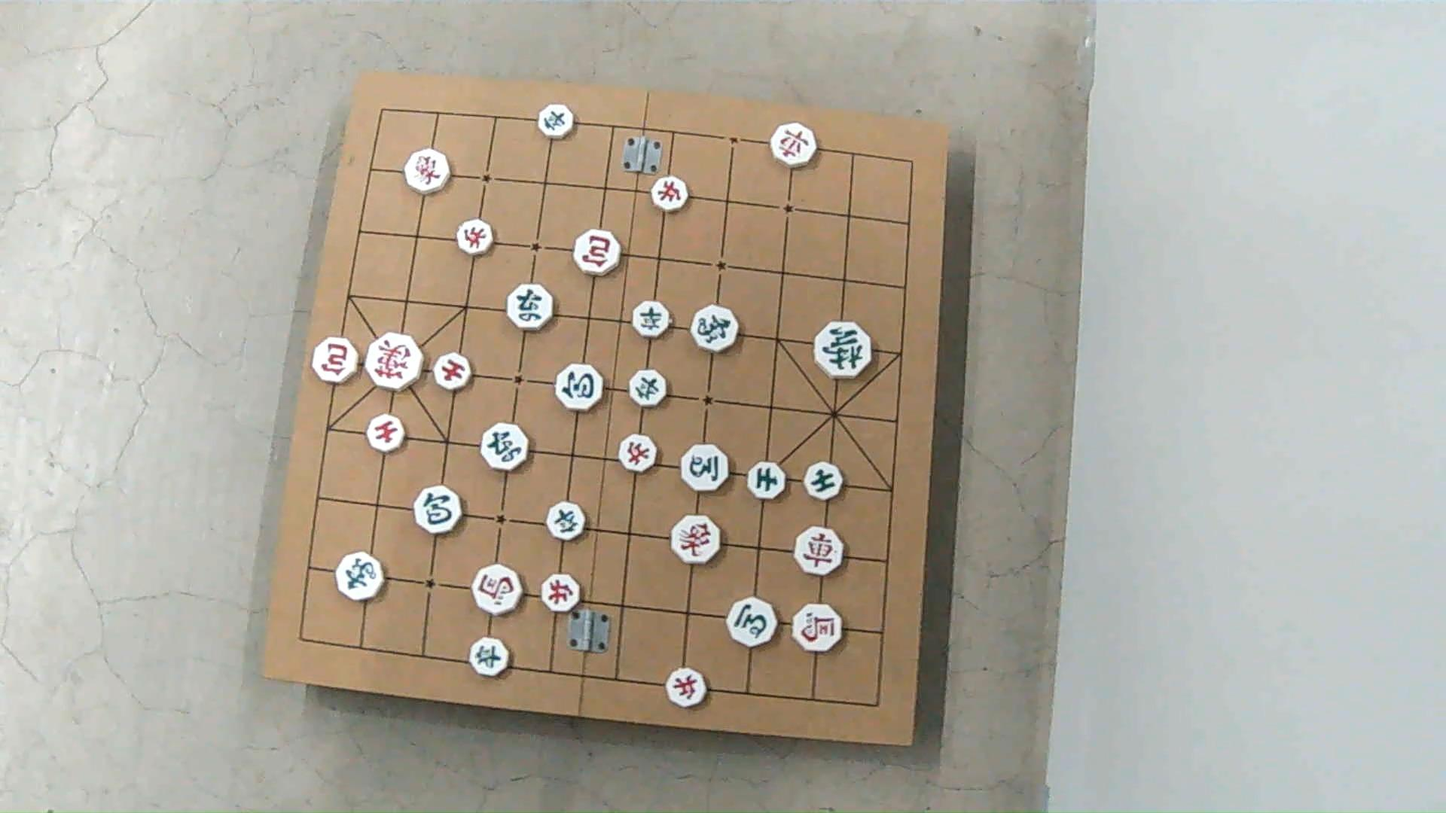cha_green: (508, 285, 555, 332), (480, 424, 527, 471)
cha_red: (795, 529, 843, 577), (770, 122, 816, 167)
jol_green: (470, 638, 511, 677), (548, 501, 587, 540), (629, 368, 666, 406), (631, 302, 669, 337), (538, 105, 575, 139)
jol_red: (541, 574, 581, 613), (666, 668, 705, 707), (621, 435, 659, 472), (458, 223, 494, 259), (651, 177, 688, 212)
ma_green: (730, 599, 779, 647), (682, 444, 731, 492)
ma_red: (790, 605, 840, 653), (473, 566, 521, 616)
po_green: (413, 486, 460, 533), (560, 364, 607, 410)
po_red: (576, 228, 624, 275), (314, 338, 360, 384)
sa_green: (802, 463, 840, 501), (748, 461, 786, 498)
sa_red: (433, 353, 471, 391), (370, 414, 407, 451)
sang_green: (337, 553, 386, 601), (691, 305, 738, 352)
sang_red: (673, 515, 721, 563), (405, 148, 449, 193)
wang_green: (816, 324, 874, 379)
wang_red: (367, 333, 423, 389)
